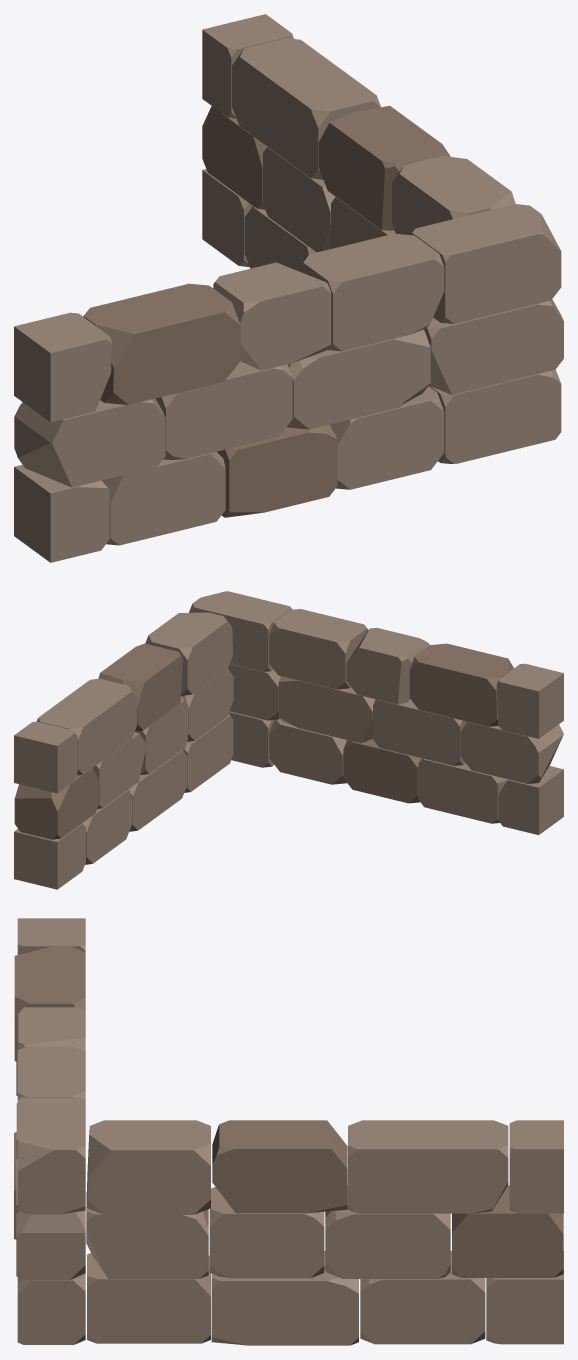
The model's file is Fence_02.fbx.
3 views of the same model, one above another, from view 1: azimuth 30°, elevation 25°; view 2: azimuth 150°, elevation 25°; view 3: azimuth 270°, elevation 25° (orthographic). The views are drawn at different scales.
Parts seen in each view (by area): view 1: Fence_02; view 2: Fence_02; view 3: Fence_02.
Boxes of the visible parts, <box> form: Fence_02: <box>14,14,563,562</box>; Fence_02: <box>14,591,563,889</box>; Fence_02: <box>14,918,563,1345</box>.
Bounding box in the file's own units: 230 × 90 × 230.
